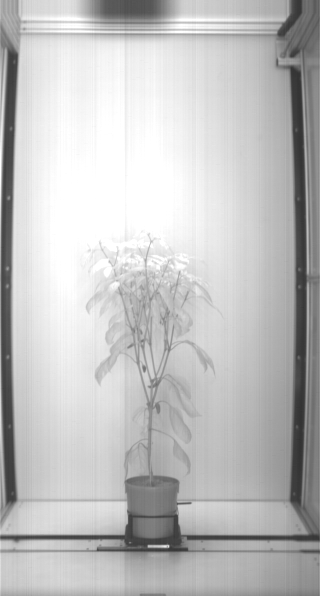bell-pepper fooled_you: (148, 377, 162, 387), (155, 403, 162, 416), (141, 361, 147, 374), (126, 342, 133, 350)
